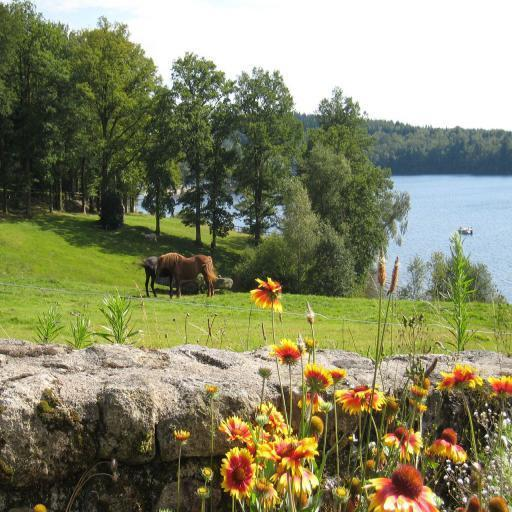horse: (156, 252, 218, 300), (136, 254, 173, 298)
